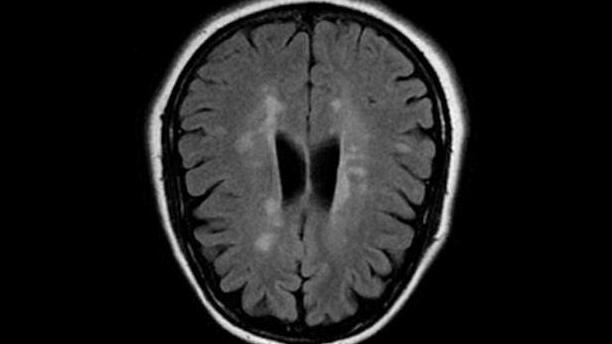Normal_Brain: (137, 1, 505, 344)
